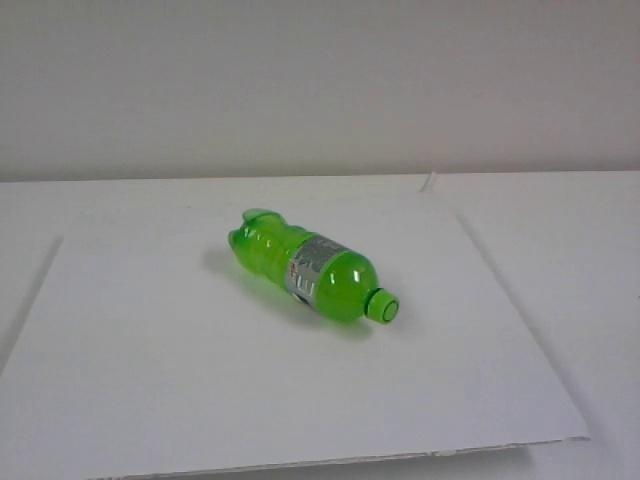bottle-plastic: (223, 203, 406, 331)
